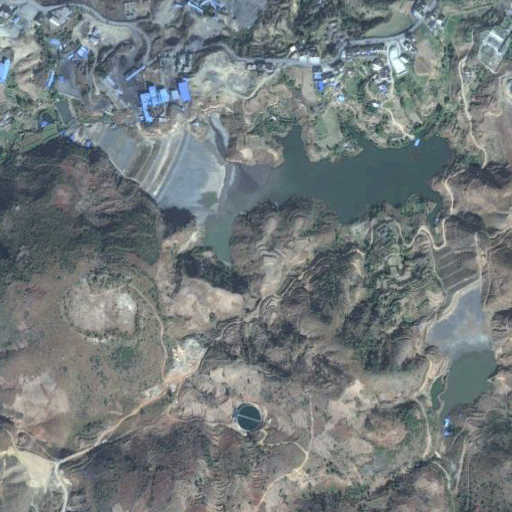tp: (84, 121, 458, 269), (428, 247, 499, 421)
